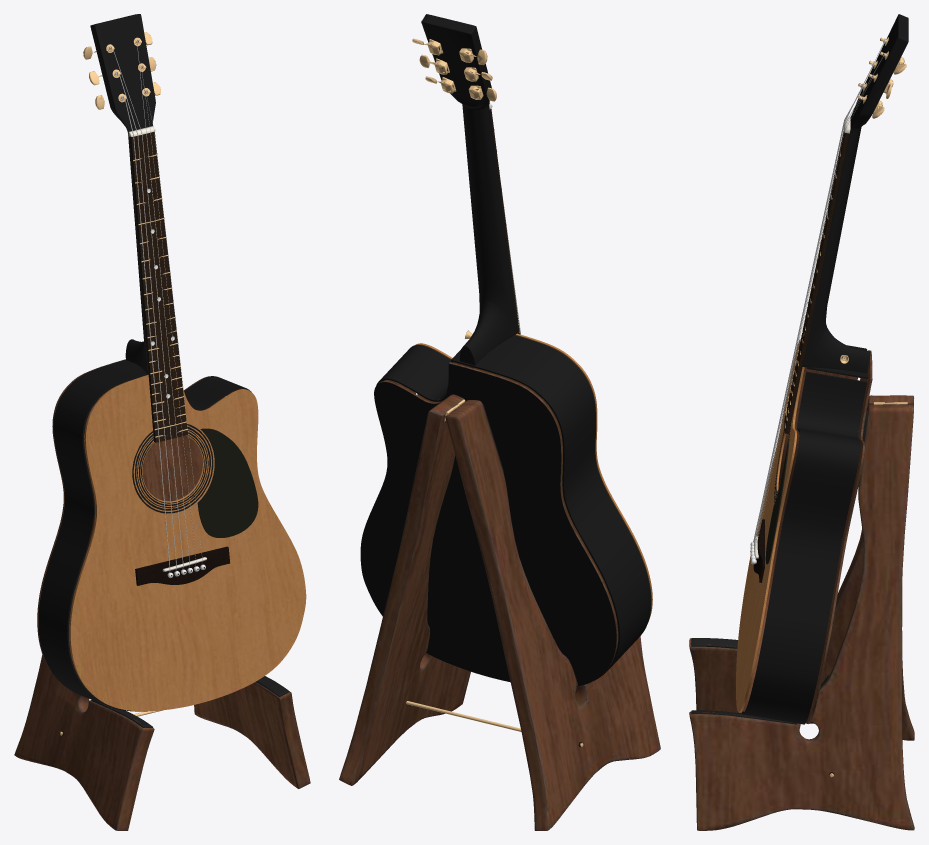
Rendered from guitarOnStand.glb.
3 renders of one model, left to right at view 1: azimuth 30°, elevation 25°; view 2: azimuth 150°, elevation 25°; view 3: azimuth 270°, elevation 25°, orthographic. The views are drawn at different scales.
Visible parts, largest first — view 1: guitar-on-stand; view 2: guitar-on-stand; view 3: guitar-on-stand.
Boxes of the visible parts, left/top/right/bottom form: guitar-on-stand: left=14, top=14, right=310, bottom=830; guitar-on-stand: left=339, top=14, right=660, bottom=830; guitar-on-stand: left=689, top=14, right=914, bottom=830.
Bounding box in the file's own units: 0.3949 × 1.15 × 0.3095.
Materials: 13 (6 with a texture image).
